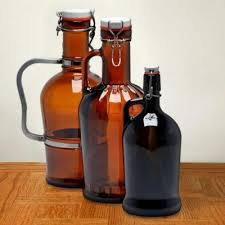beer: (122, 65, 181, 216)
